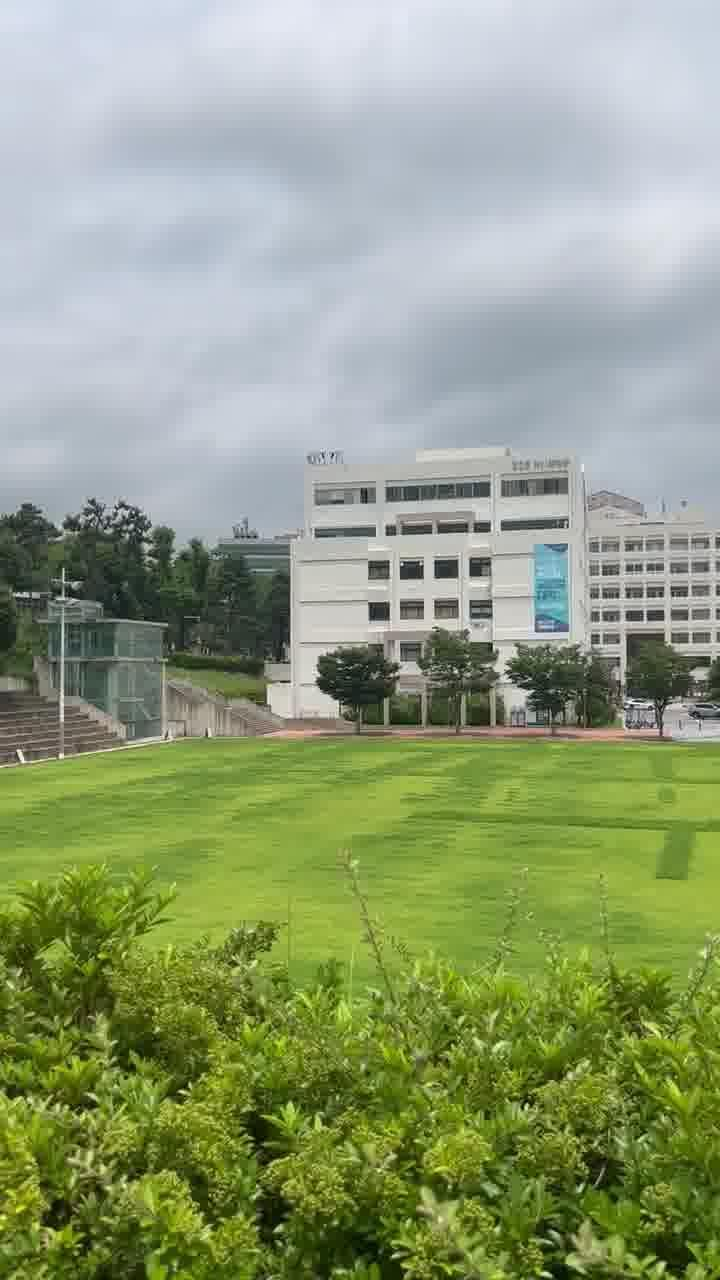building: (294, 456, 586, 652)
